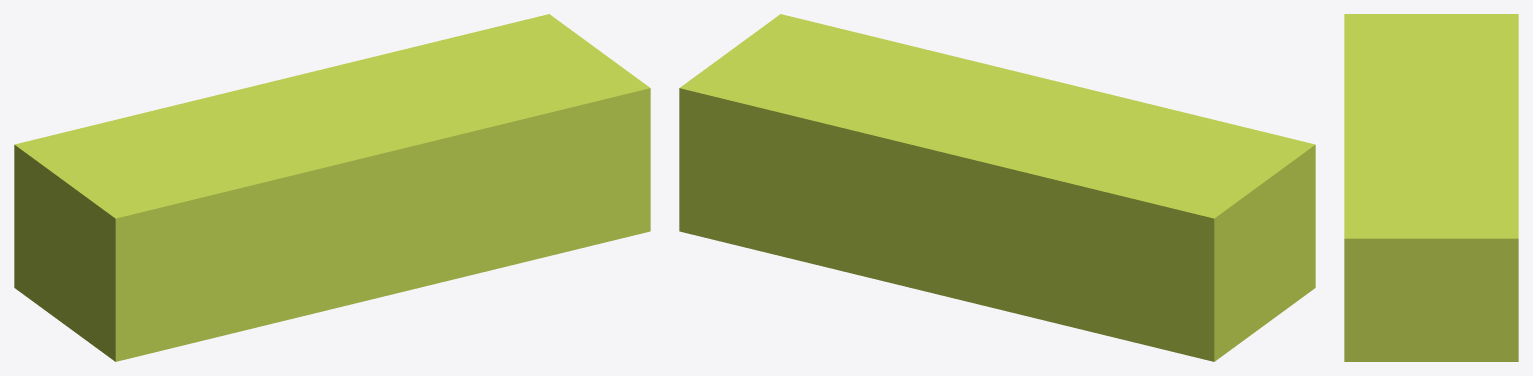
File: Platform.fbx
The picture shows the model from 3 angles, left to right: view 1: azimuth 30°, elevation 25°; view 2: azimuth 150°, elevation 25°; view 3: azimuth 270°, elevation 25°; orthographic projection. The views are drawn at different scales.
Visible parts, largest first — view 1: PLatform; view 2: PLatform; view 3: PLatform.
Part boxes in pixels (x1=…): PLatform: x1=14, y1=14, x2=650, y2=361; PLatform: x1=679, y1=14, x2=1315, y2=361; PLatform: x1=1344, y1=14, x2=1518, y2=361.
Bounding box in the file's own units: 781 × 200 × 256.
